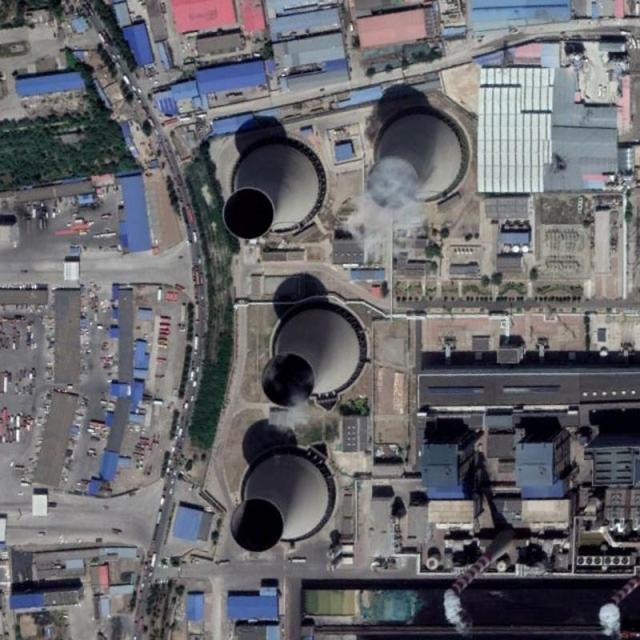vehicle: (186, 205, 195, 224), (193, 335, 199, 356), (288, 558, 307, 564), (3, 373, 8, 394), (215, 559, 230, 566), (195, 302, 200, 323), (15, 428, 21, 444), (157, 287, 163, 303), (195, 267, 200, 285), (15, 414, 21, 428), (151, 553, 157, 567), (189, 369, 195, 382), (160, 495, 165, 508), (193, 231, 198, 243), (94, 309, 98, 322)
